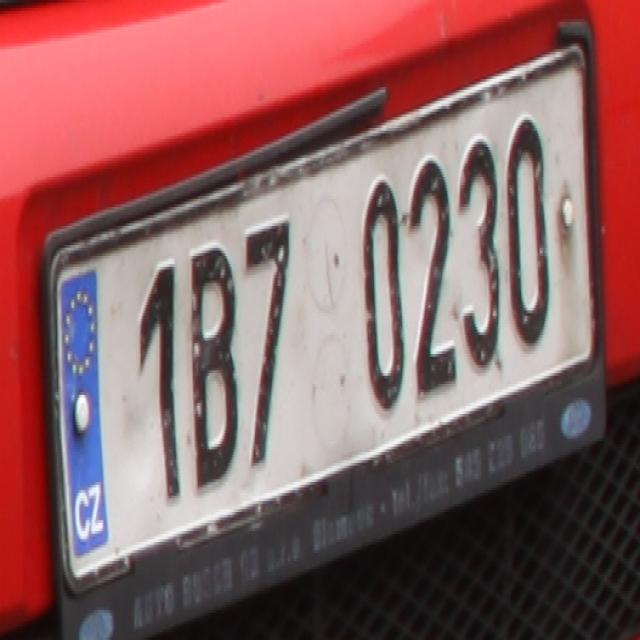0: (506, 112, 552, 351), (362, 174, 404, 408)
1: (132, 259, 186, 504)
2: (406, 155, 456, 392)
3: (457, 134, 504, 370)
7: (243, 218, 289, 463)
B: (190, 234, 240, 477)
